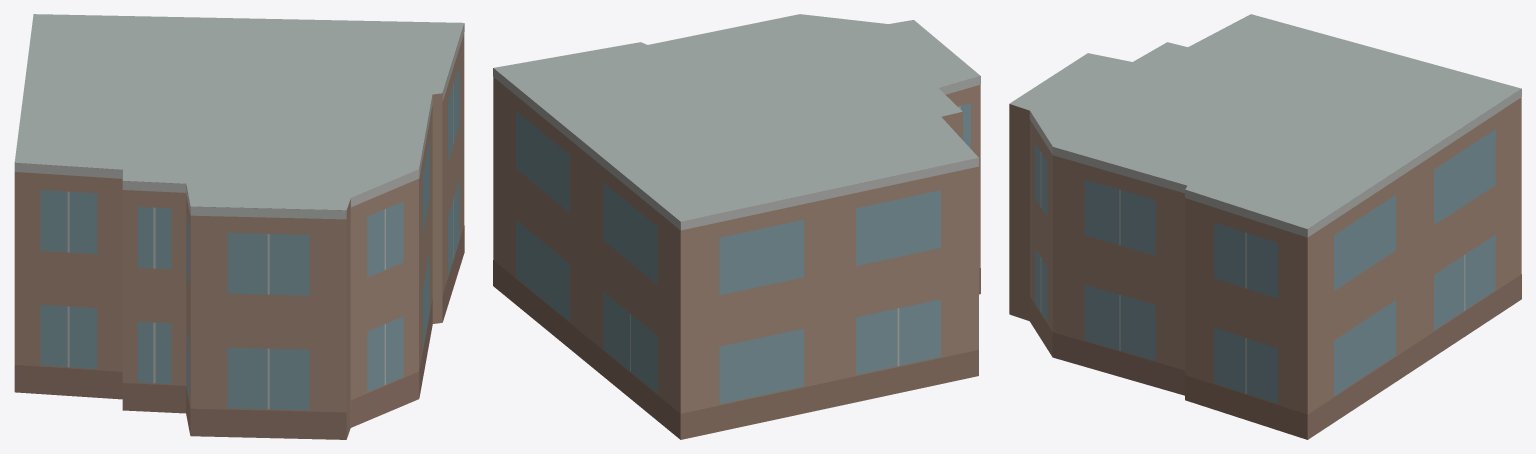
The model's file is survey-upis-32914696.glb.
3 renders of one model, left to right at view 1: azimuth 30°, elevation 25°; view 2: azimuth 150°, elevation 25°; view 3: azimuth 270°, elevation 25°, orthographic. The views are drawn at different scales.
Visible parts, largest first — view 1: survey-upis-32914696.tmp; view 2: survey-upis-32914696.tmp; view 3: survey-upis-32914696.tmp.
Part boxes in pixels (x1,y1,x2,y2): survey-upis-32914696.tmp: [14, 14, 464, 439]; survey-upis-32914696.tmp: [493, 14, 980, 439]; survey-upis-32914696.tmp: [1009, 14, 1521, 439].
Bounding box in the file's own units: 13.37 × 6.1 × 13.46.
